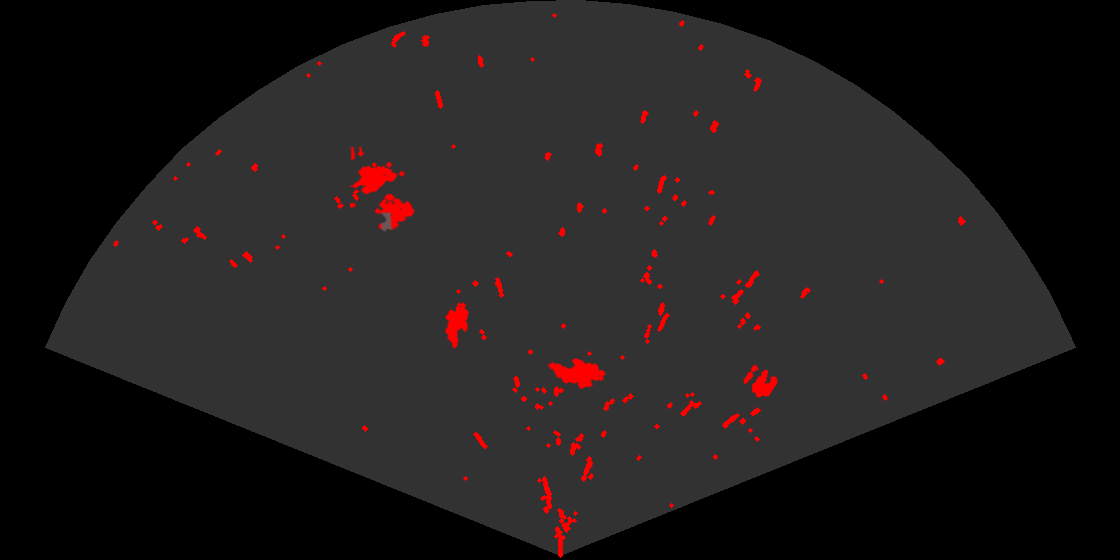AUV: (546, 356, 608, 391), (444, 301, 470, 350)
ball: (742, 363, 779, 399)
cage: (350, 147, 417, 233)
